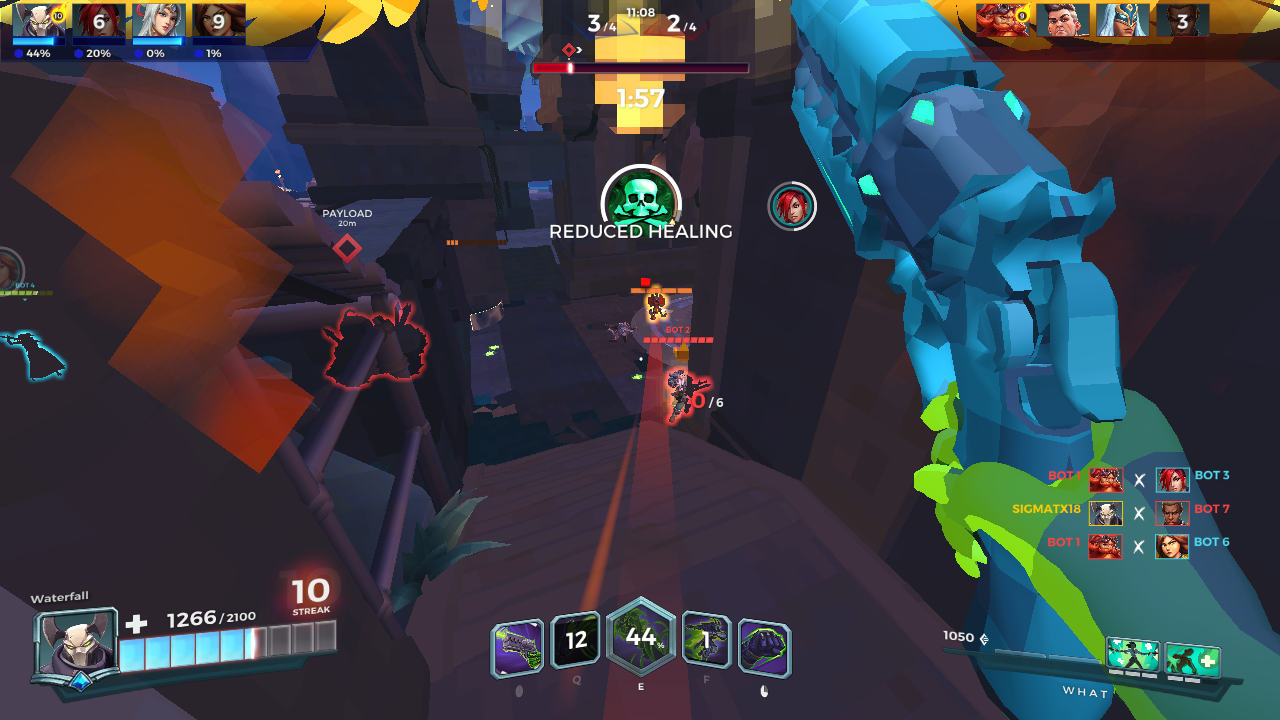model: (664, 366, 707, 423), (640, 288, 669, 322)
